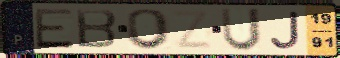B: (74, 7, 119, 50)
E: (32, 7, 75, 50)
J: (269, 10, 302, 51)
O: (125, 8, 173, 51)
U: (219, 7, 263, 54)
Z: (171, 9, 215, 51)
